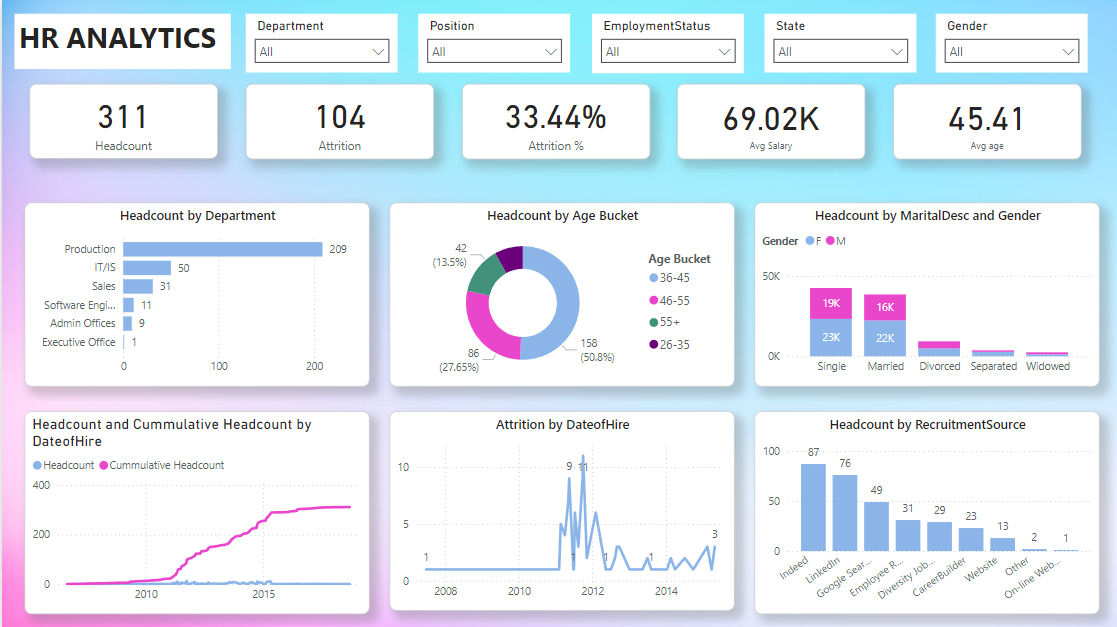

The dashboard page shown, as its layout file describes it:
{"tool":"powerbi","page":{"name":"HR Analytics","canvas":[1280,720],"ordinal":0},"visuals":[{"type":"card","fields":{"Values":["Measures (3).Headcount"]},"box":[31.6,95.8,215,85.3],"z":0},{"type":"card","fields":{"Values":["Measures (3).Attrition"]},"box":[278.4,95.8,215,86],"z":1000},{"type":"card","fields":{"Values":["Measures (3).Attrition %"]},"box":[525.2,95.8,215,86],"z":2000},{"type":"card","fields":{"Values":["Measures (3).Avg Salary"]},"box":[772,95.8,215,86],"z":3000},{"type":"card","fields":{"Values":["Measures (3).Avg age"]},"box":[1018.8,95.8,215,86],"z":4000},{"type":"clusteredBarChart","fields":{"Y":["Measures (3).Headcount"],"Category":["HRDataset_v14.Department"]},"box":[26,232,394,210],"z":5000},{"type":"donutChart","fields":{"Category":["HRDataset_v14.Age Bucket"],"Y":["Measures (3).Headcount"]},"box":[443,232,394,210],"z":6000},{"type":"columnChart","title":"Headcount by MaritalDesc and Gender","fields":{"Category":["HRDataset_v14.MaritalDesc"],"Y":["Sum(HRDataset_v14.Headcount)"],"Series":["HRDataset_v14.Gender"]},"box":[860,232,394,210],"z":7000},{"type":"lineChart","fields":{"Category":["HRDataset_v14.DateofHire"],"Y":["Measures (3).Headcount","Measures (3).Cummulative Headcount"]},"box":[26,470,394,232],"z":8000},{"type":"lineChart","fields":{"Category":["HRDataset_v14.DateofHire"],"Y":["Measures (3).Attrition"]},"box":[443,470,394,228],"z":9000},{"type":"columnChart","fields":{"Y":["Measures (3).Headcount"],"Category":["HRDataset_v14.RecruitmentSource"]},"box":[860,470,394,232],"z":10000},{"type":"slicer","fields":{"Values":["HRDataset_v14.Position"]},"box":[475,16.2,173.8,67.5],"z":11000},{"type":"slicer","fields":{"Values":["HRDataset_v14.EmploymentStatus"]},"box":[673.8,16.2,173.8,68],"z":12000},{"type":"slicer","fields":{"Values":["HRDataset_v14.State"]},"box":[871.2,16.2,173.8,67.5],"z":13000},{"type":"slicer","fields":{"Values":["HRDataset_v14.Department"]},"box":[278.8,16.2,173.8,67.5],"z":14000},{"type":"slicer","fields":{"Values":["HRDataset_v14.Gender"]},"box":[1067.5,16.2,173.8,67.5],"z":15000},{"type":"textbox","box":[14.3,15.7,247.1,62.9],"z":15001}]}

Visuals, with their boxes in screenshot pixels (x1, y1, x2, y2), scaled from the page's 1280x720 canvas onto the 1117x627 screenshot:
card - Measures (3).Headcount: 28:83:215:158
card - Measures (3).Attrition: 243:83:431:158
card - Measures (3).Attrition %: 458:83:646:158
card - Measures (3).Avg Salary: 674:83:861:158
card - Measures (3).Avg age: 889:83:1077:158
clusteredBarChart - Measures (3).Headcount x HRDataset_v14.Department: 23:202:367:385
donutChart - HRDataset_v14.Age Bucket x Measures (3).Headcount: 387:202:730:385
"Headcount by MaritalDesc and Gender" columnChart: 750:202:1094:385
lineChart - HRDataset_v14.DateofHire x Measures (3).Headcount: 23:409:367:611
lineChart - HRDataset_v14.DateofHire x Measures (3).Attrition: 387:409:730:608
columnChart - Measures (3).Headcount x HRDataset_v14.RecruitmentSource: 750:409:1094:611
slicer - HRDataset_v14.Position: 415:14:566:73
slicer - HRDataset_v14.EmploymentStatus: 588:14:740:73
slicer - HRDataset_v14.State: 760:14:912:73
slicer - HRDataset_v14.Department: 243:14:395:73
slicer - HRDataset_v14.Gender: 932:14:1083:73
textbox: 12:14:228:68
